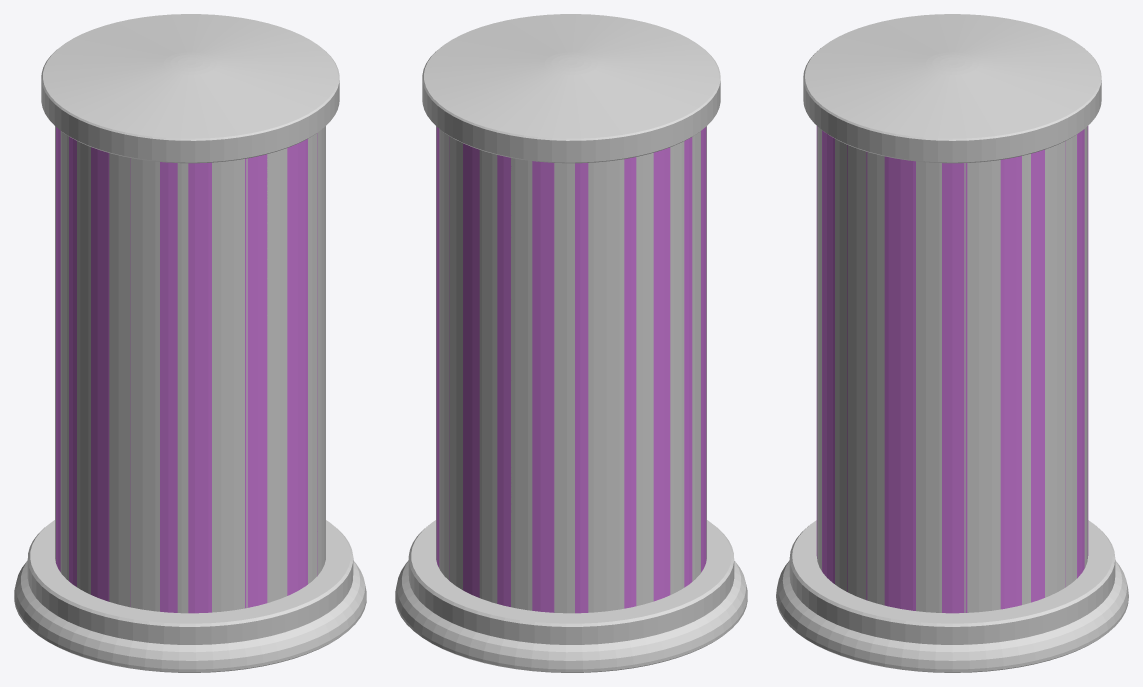
File: litfass.glb
3 renders of one model, left to right at view 1: azimuth 30°, elevation 25°; view 2: azimuth 150°, elevation 25°; view 3: azimuth 270°, elevation 25°, orthographic.
Visible parts, largest first — view 1: Litfass_Main; view 2: Litfass_Main; view 3: Litfass_Main.
Part boxes in pixels (x1=…): Litfass_Main: x1=14, y1=14, x2=366, y2=672; Litfass_Main: x1=395, y1=14, x2=747, y2=672; Litfass_Main: x1=776, y1=14, x2=1128, y2=672.
Bounding box in the file's own units: 2.6 × 4.36 × 2.6.
